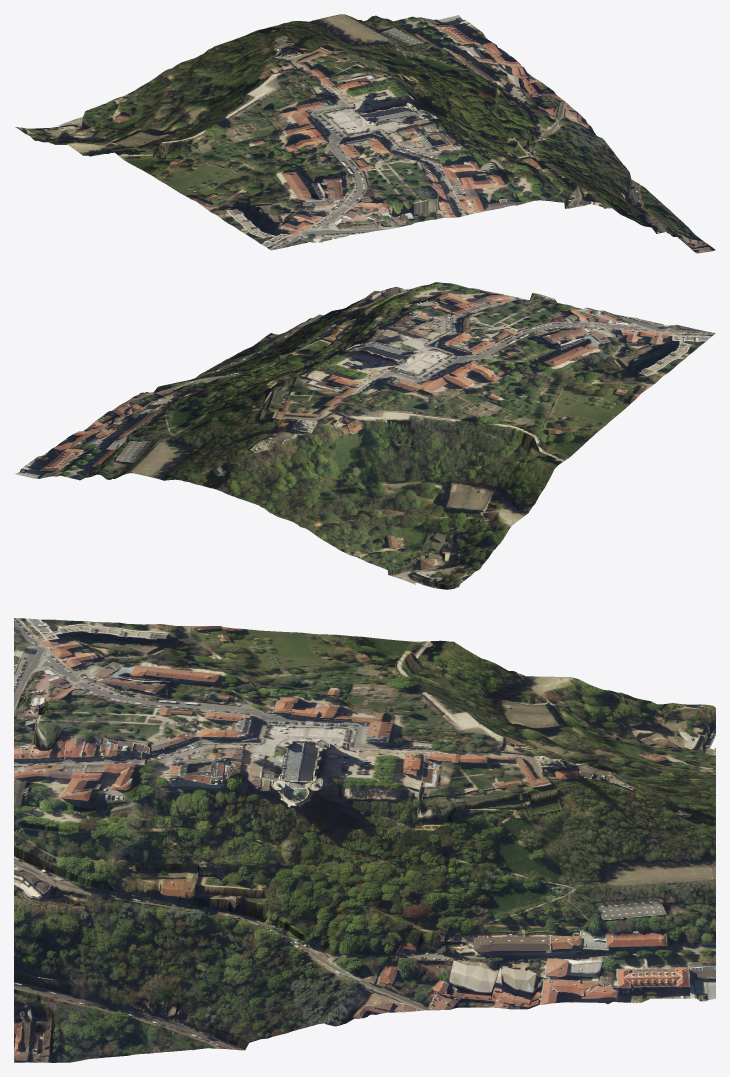
Rendered from gml_786faa4c-221d-4254-b8b2-aca3b8f8fea1.gltf.
The picture shows the model from 3 angles, top to bottom: view 1: azimuth 30°, elevation 25°; view 2: azimuth 150°, elevation 25°; view 3: azimuth 270°, elevation 25°; orthographic projection. The views are drawn at different scales.
Visible parts, largest first — view 1: Z_UP; view 2: Z_UP; view 3: Z_UP.
Boxes of the visible parts, bbox=[...] form: Z_UP: bbox=[15, 14, 715, 253]; Z_UP: bbox=[15, 282, 715, 589]; Z_UP: bbox=[14, 618, 715, 1062].
Size of the model in its own units: 500 by 124 by 500.
1 material, 1 textured.
